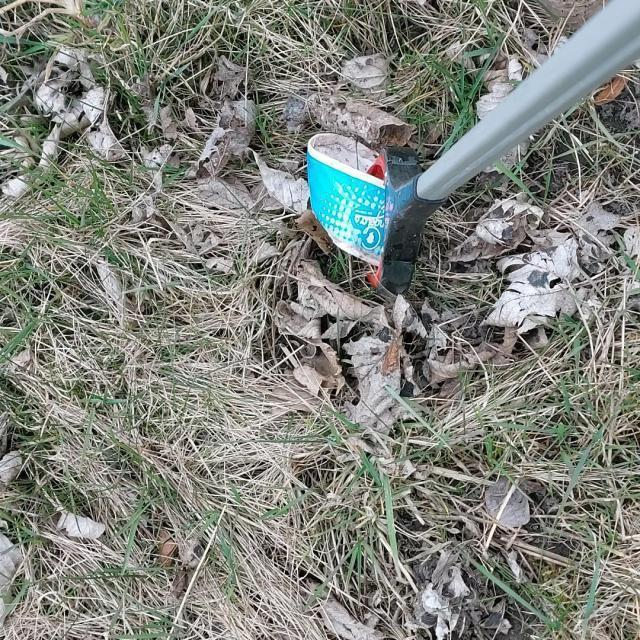Paper: (306, 132, 390, 270)
